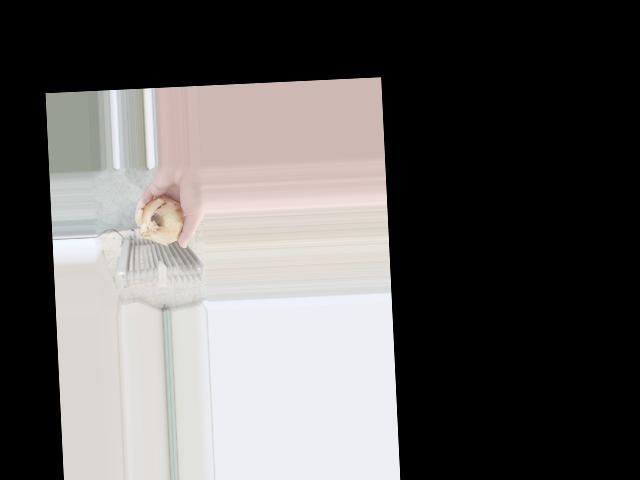onion: (140, 187, 187, 246)
